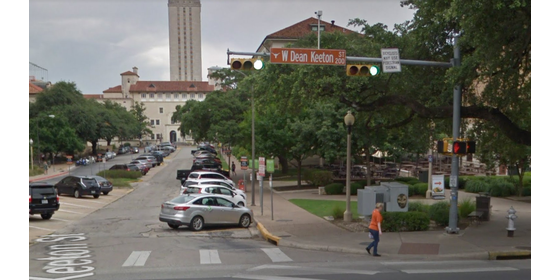bicyclists must use ped signal sign: (379, 45, 403, 76)
